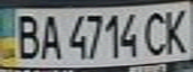1: (103, 10, 124, 58)
4: (63, 10, 87, 60), (118, 9, 142, 58)
7: (84, 10, 106, 60)
A: (36, 11, 63, 61)
B: (9, 10, 42, 61)
C: (139, 7, 172, 57)
K: (160, 6, 193, 56)
